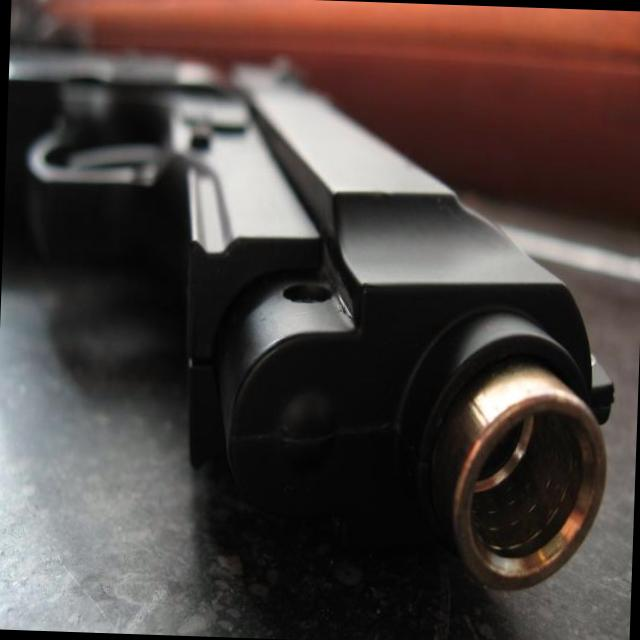Gun: (3, 52, 613, 588)
